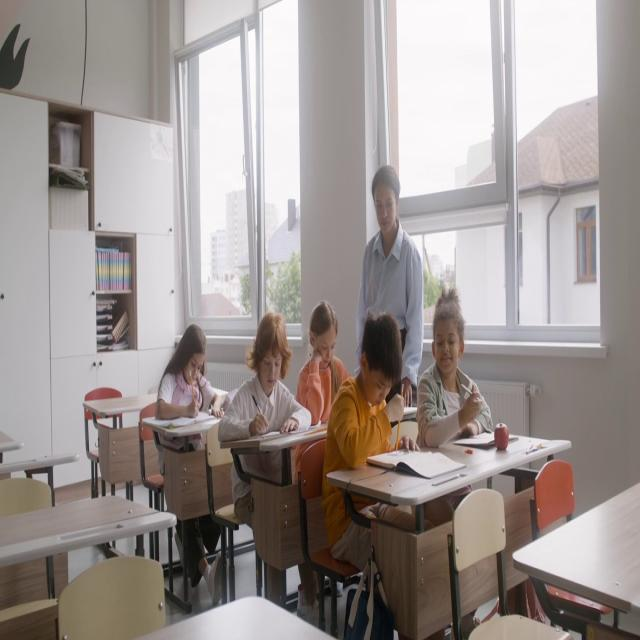reading: (294, 304, 342, 468)
turning: (417, 286, 491, 452)
writing: (318, 311, 411, 622), (219, 314, 313, 615), (156, 324, 226, 472)
